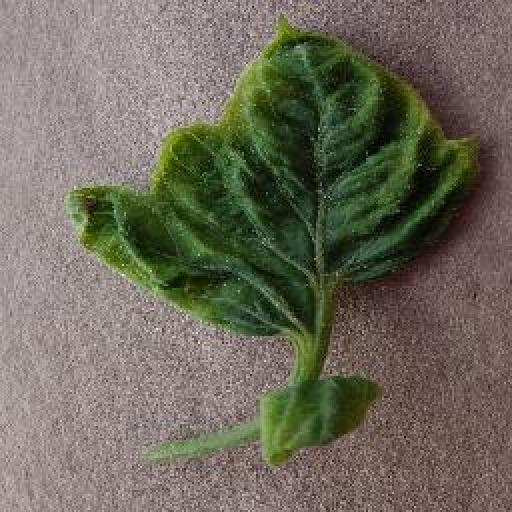Yellow Leaf Curl Virus: (64, 16, 489, 339), (259, 374, 388, 462)
